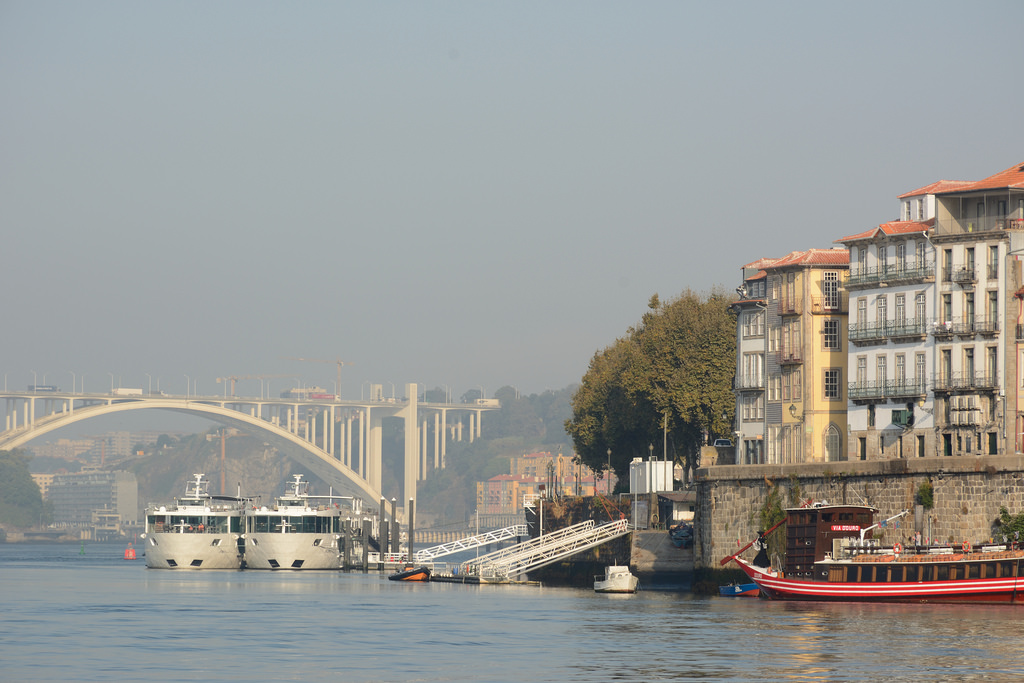arrabida: (0, 380, 502, 530)
